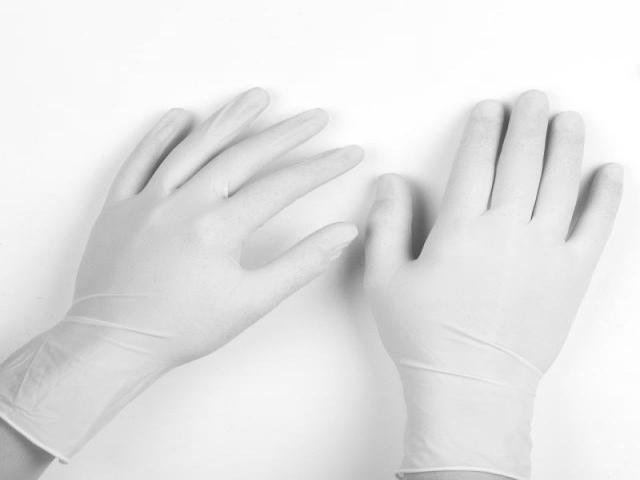gloved: (65, 85, 358, 369), (360, 87, 626, 397)
